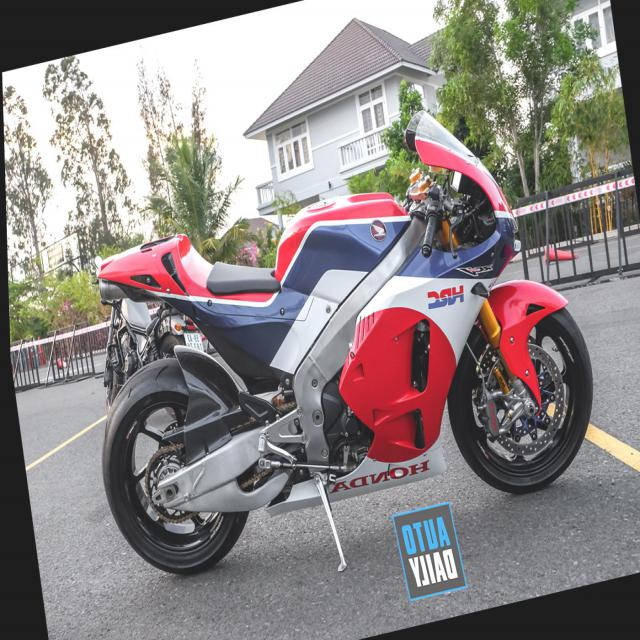HRC RCV 213: (61, 77, 607, 591)
